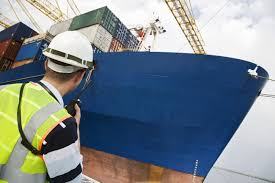Person_wearing_helmet: (34, 27, 101, 69)
